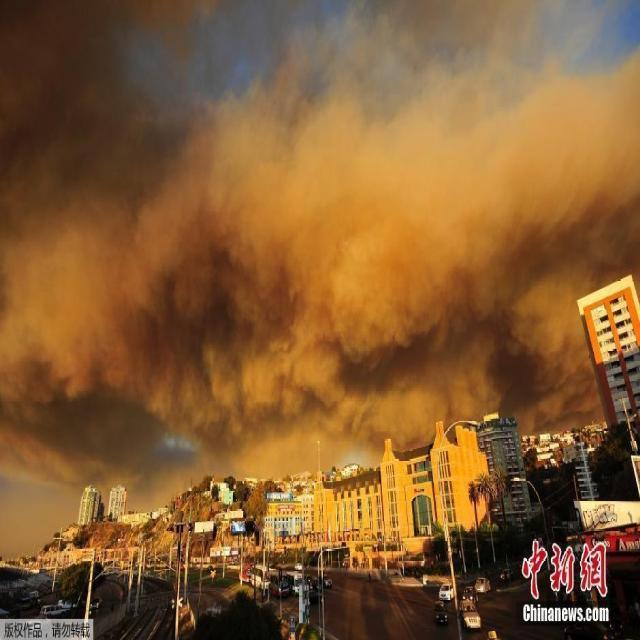Smoke: (0, 1, 640, 510)
